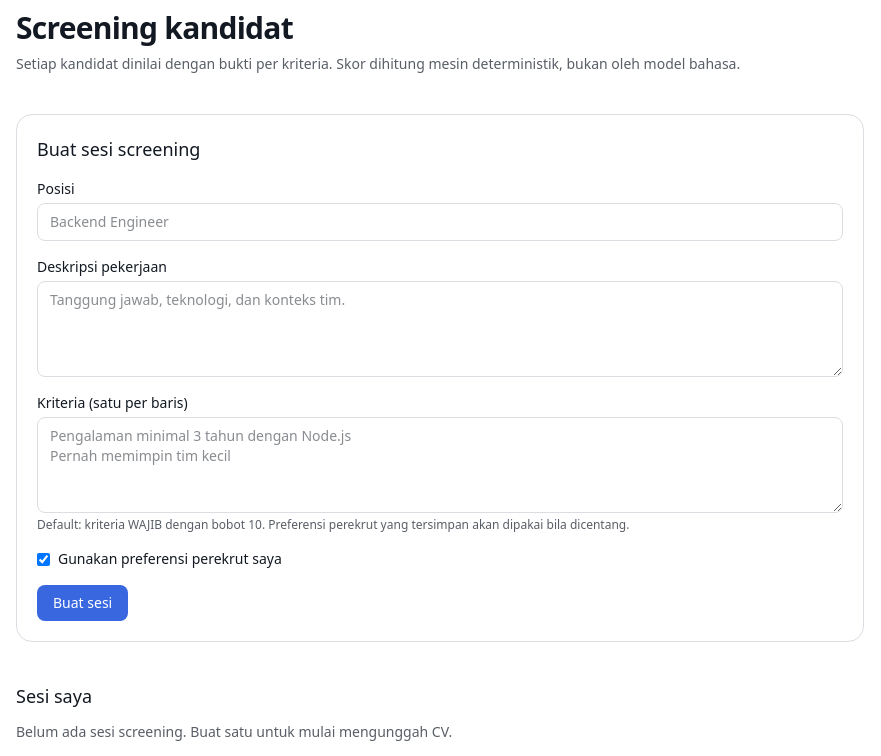
Test: ScreeningPage › requires a title, a description and at least one criterion
This screenshot has width=881, height=756.
Check: the field labelled "Posisi" is shown, box [37,203,843,241]
Click the button "Buat sesi" at (83, 603), box [37,585,128,621]
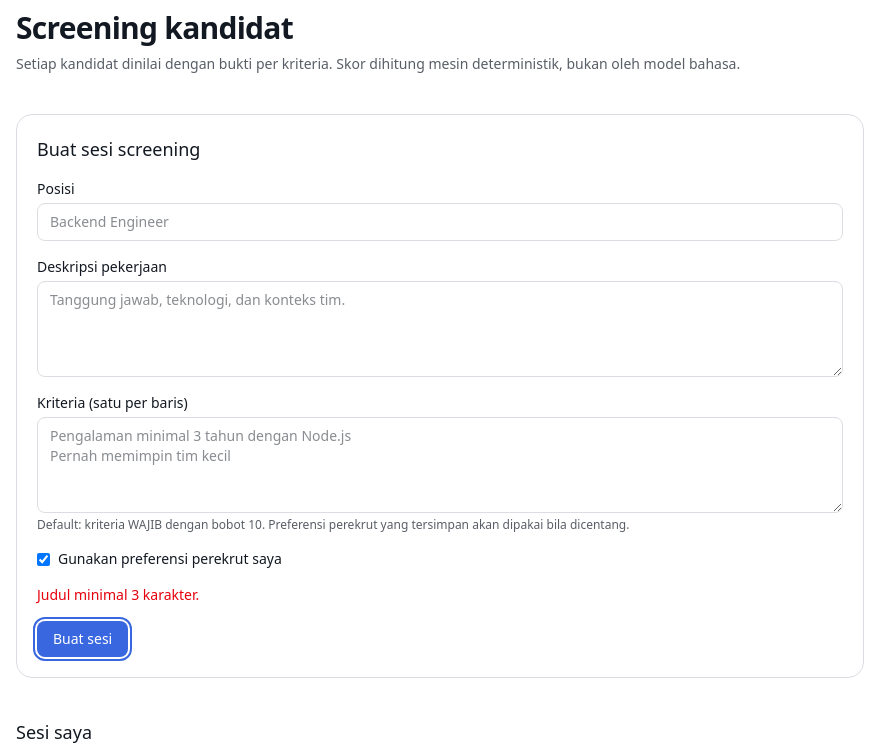
Check: the message reads "Judul minimal 3 karakter.", box [37,585,199,604]
